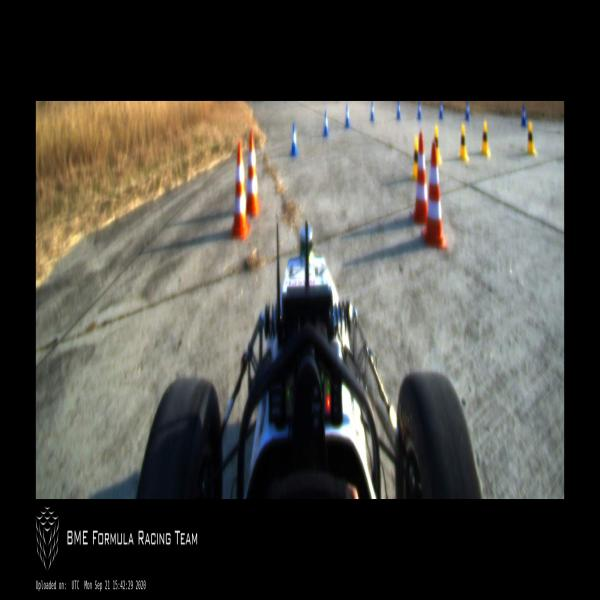blue_cone: (290, 123, 298, 154), (344, 104, 351, 128), (322, 110, 328, 137), (520, 105, 526, 127), (465, 101, 471, 121), (370, 101, 375, 121), (396, 101, 401, 120), (417, 101, 422, 120), (439, 101, 443, 120)
large_orange_cone: (422, 142, 448, 247), (230, 144, 251, 242), (411, 131, 428, 225), (246, 133, 261, 219)
yellow_cone: (457, 124, 469, 163), (480, 120, 490, 157), (434, 125, 442, 165), (526, 121, 535, 156), (412, 137, 418, 182)
